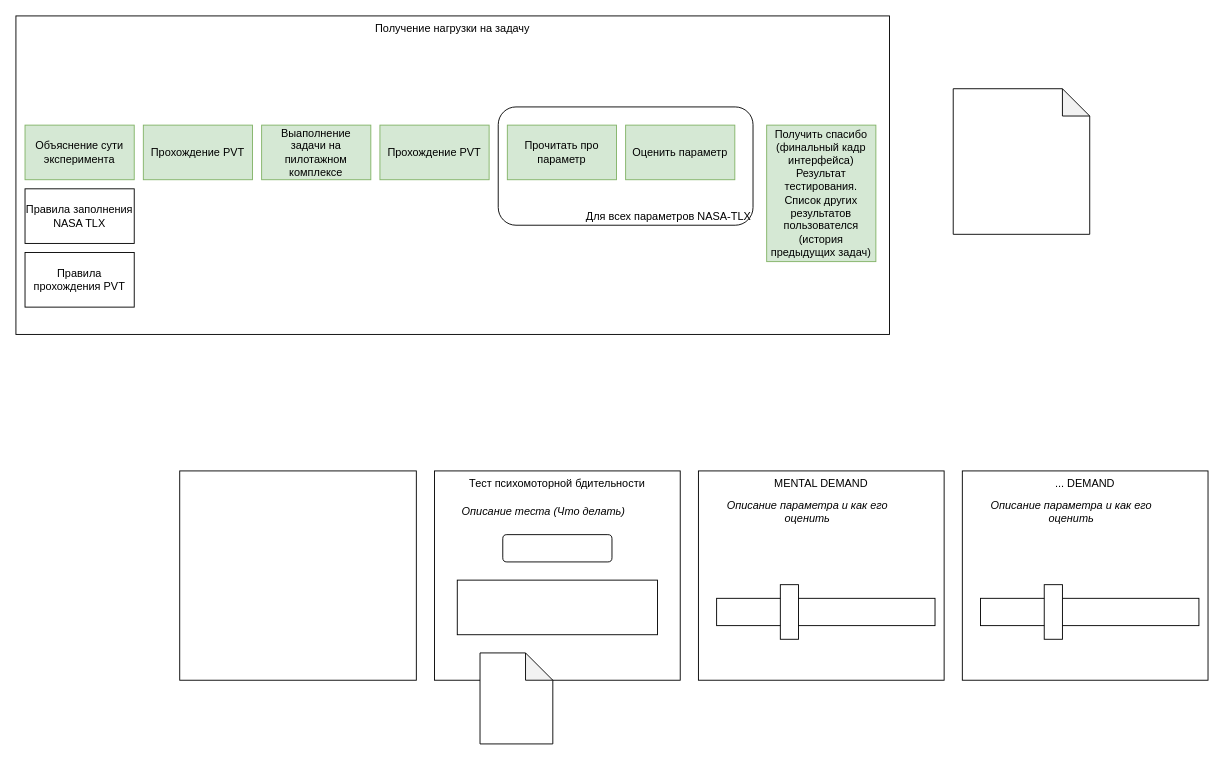
The diagram is 1224 pixels wide and 760 high, and some of its shapes have lost their labels. The shapes that lost their labels are listed below. From the top down, each one's centre as x and y in pixels, then its label:
At (1021,161): "Интересно среднее по задаче В идеале сделать нармировку от 0 до 1 в десятых".
At (557,548): "Начать тест".
At (297,575): "ФИО, эксперимент, номер задачи".
At (516,698): "разы прохождения теста (первый раз перепройти можно, второй нет)".
